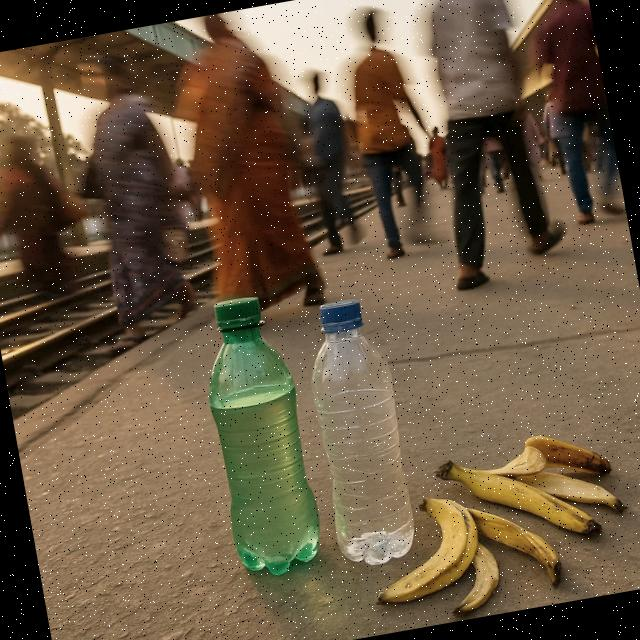plastic: (192, 288, 326, 581), (295, 294, 424, 574)
